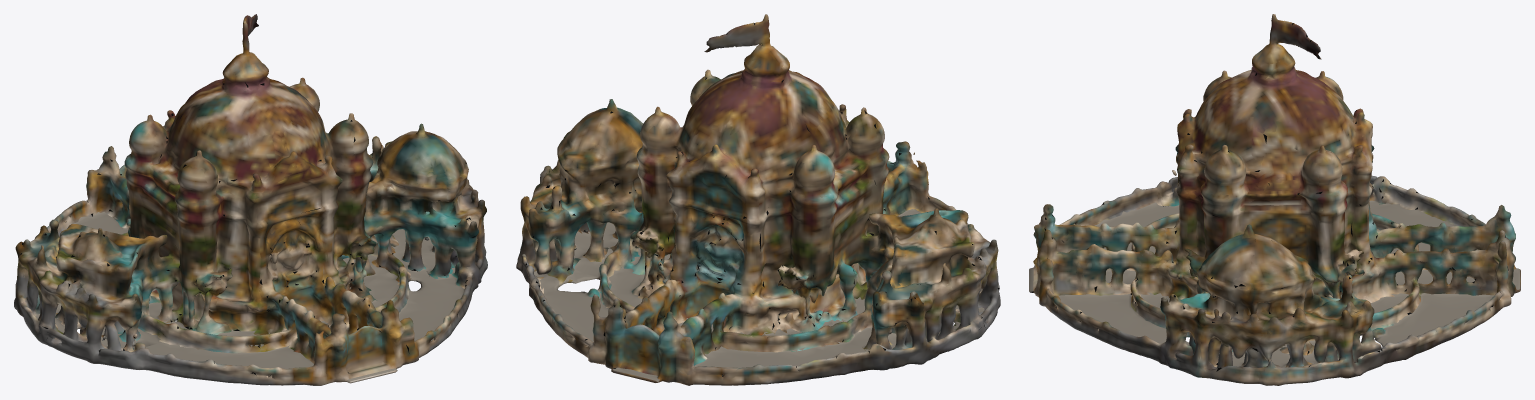
File: review-building-capybara-49598b840363.glb
3 renders of one model, left to right at view 1: azimuth 30°, elevation 25°; view 2: azimuth 150°, elevation 25°; view 3: azimuth 270°, elevation 25°, orthographic. The views are drawn at different scales.
Parts seen in each view (by area): view 1: capybara | building material review; view 2: capybara | building material review; view 3: capybara | building material review.
Boxes of the visible parts, left/top/right/bottom form: capybara | building material review: left=14, top=14, right=487, bottom=385; capybara | building material review: left=516, top=14, right=1000, bottom=385; capybara | building material review: left=1029, top=14, right=1520, bottom=385.
Size of the model in its own units: 26.82 by 16 by 26.78.
Materials: 2 (1 with a texture image).
